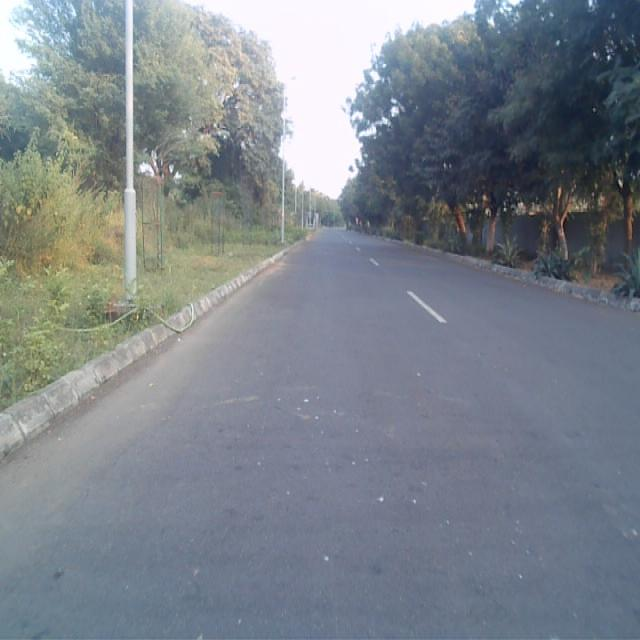lane: (0, 235, 640, 640)
